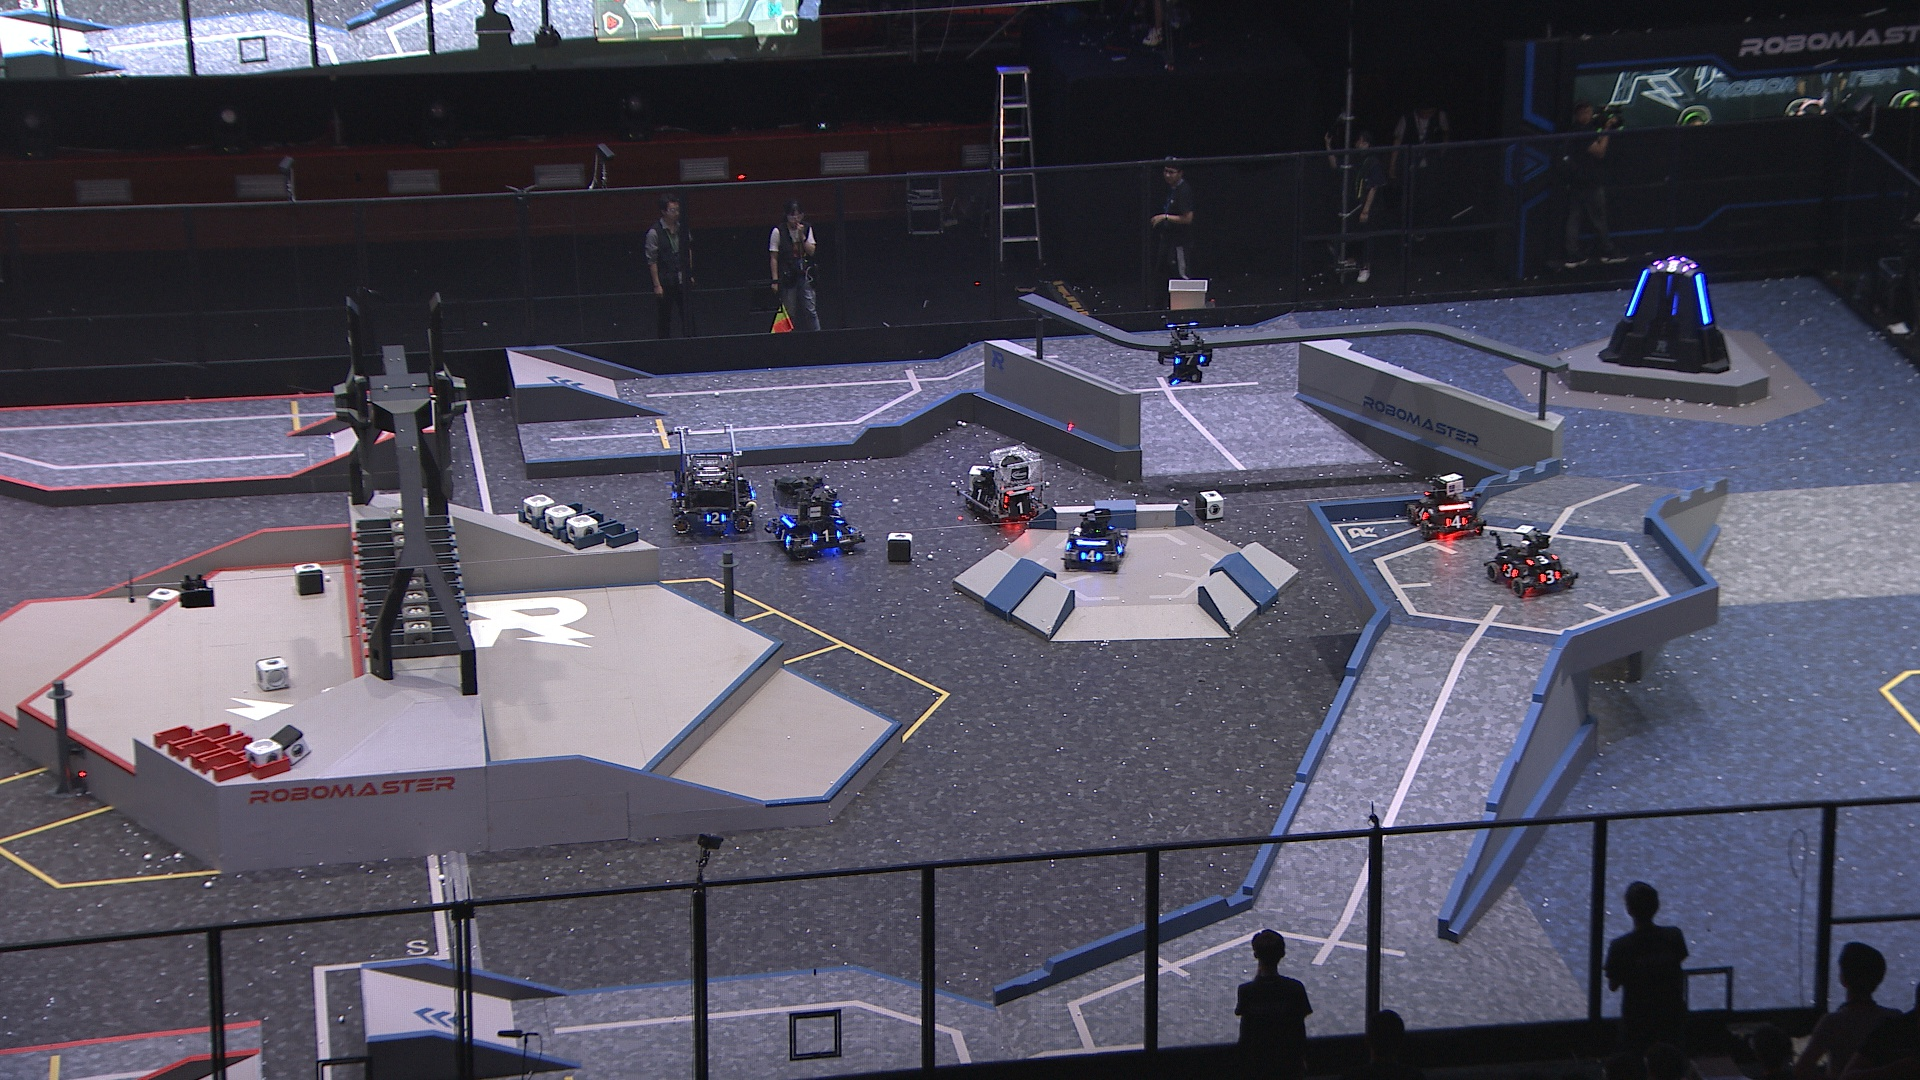armor: (1625, 266, 1648, 318), (1692, 272, 1713, 327), (808, 527, 841, 545), (1174, 352, 1207, 368), (1524, 553, 1557, 567), (1501, 560, 1522, 582), (702, 510, 728, 526), (1007, 500, 1031, 517), (1443, 513, 1468, 529), (1539, 568, 1561, 585), (1079, 549, 1102, 564), (774, 526, 793, 546), (971, 487, 986, 502), (1414, 505, 1429, 520), (1116, 538, 1127, 555)
base: (1596, 253, 1731, 376)
car: (666, 425, 757, 534), (764, 476, 862, 564), (956, 446, 1048, 531), (1486, 524, 1581, 597), (1404, 473, 1486, 541), (1062, 505, 1127, 571)
ignore: (1655, 257, 1689, 273)
watcher: (1155, 319, 1215, 386)
